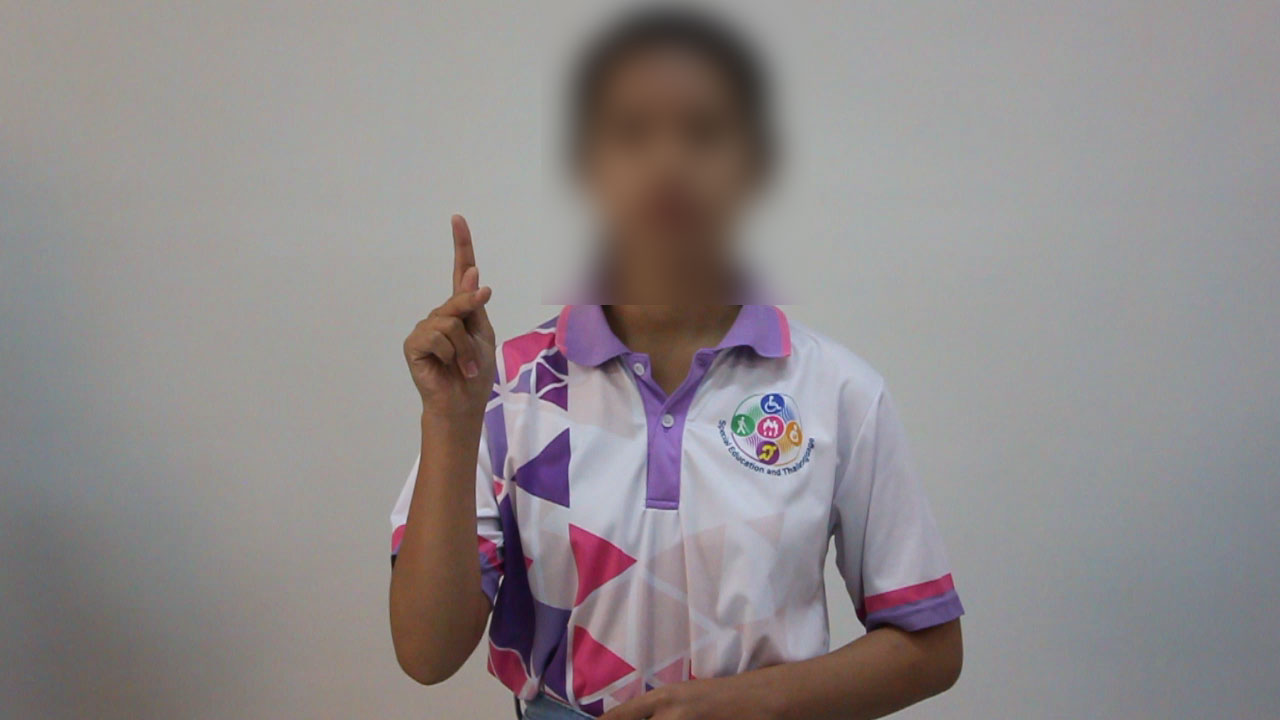ko: (395, 207, 523, 421)
